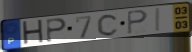7: (75, 15, 94, 40)
C: (97, 13, 120, 37)
H: (21, 18, 46, 47)
I: (155, 7, 162, 33)
P: (126, 10, 149, 36), (46, 17, 68, 43)
